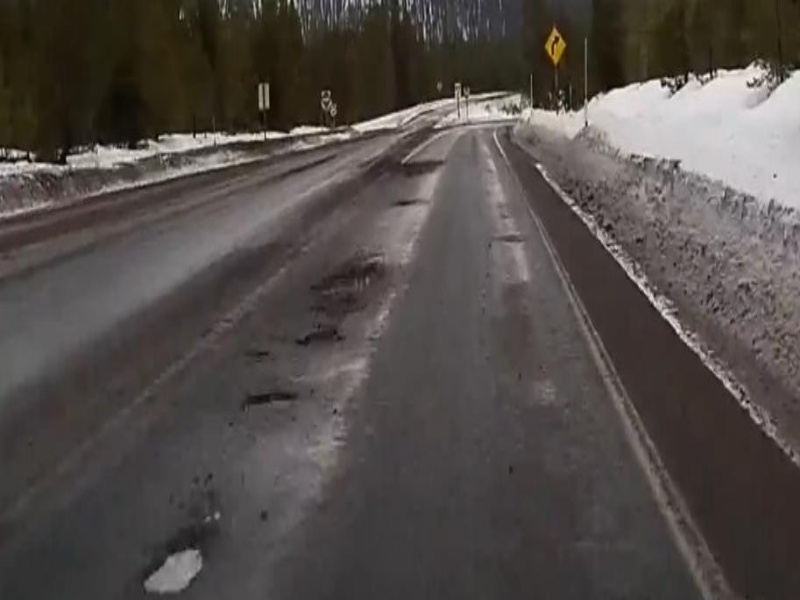pothole: (137, 543, 212, 594), (310, 263, 386, 297), (239, 386, 307, 413)
